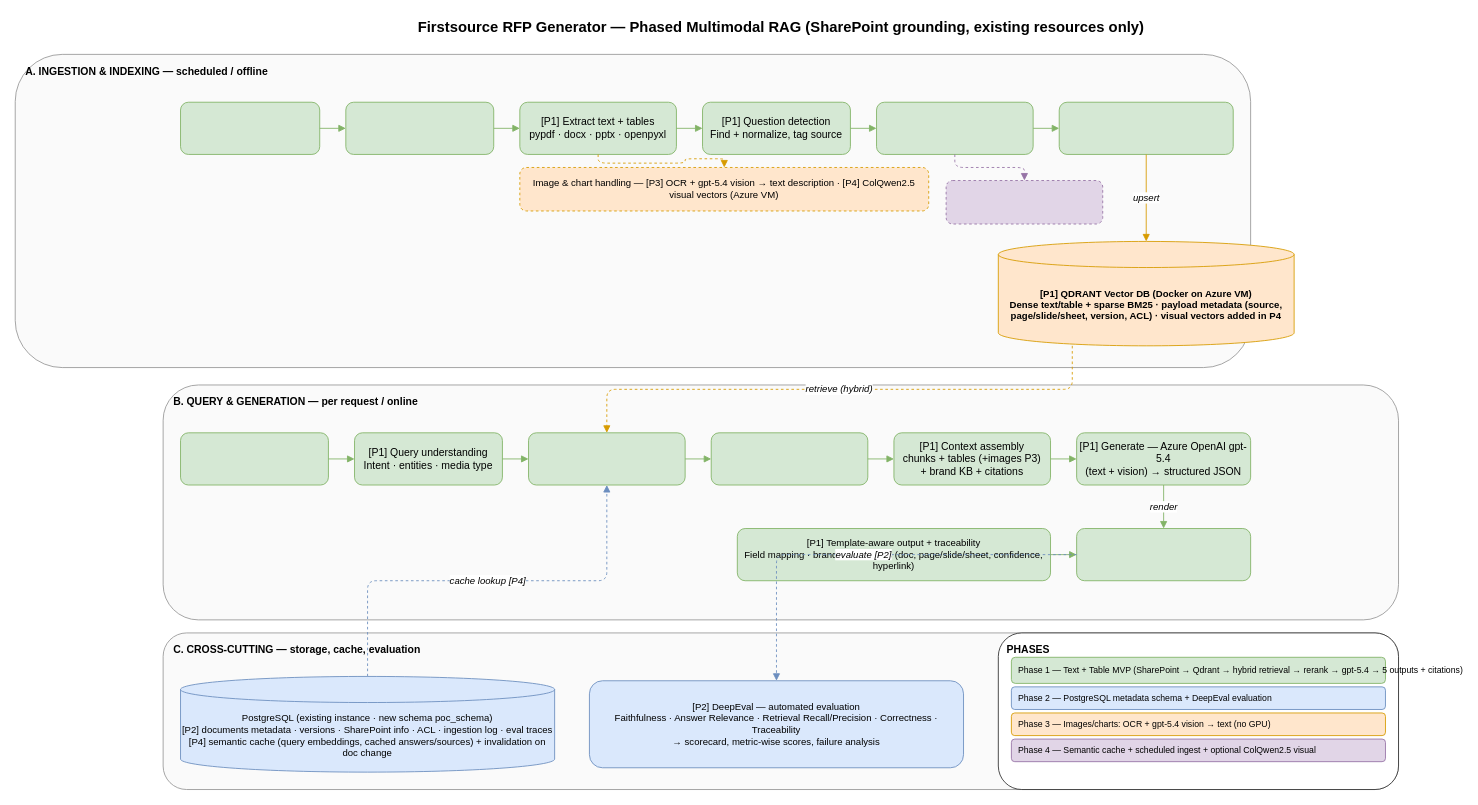
The diagram is 1478 pixels wide and 805 high, and some of its shapes have lost their labels. Here are the shapes that lost their labels. From the top down, the box of each, then its label:
(180, 101, 320, 154): [P1] SharePoint / M365 Libraries · versions · ACL
(345, 101, 494, 154): [P1] Microsoft Graph API Pull new/changed (app-only)
(876, 101, 1033, 154): [P1] Chunking Structure-aware + recursive ~512 tok · tables intact
(1058, 101, 1233, 154): [P1] Build vectors Dense: text-embedding-3-small Sparse: BM25 keyword
(945, 180, 1103, 224): [P4] Contextual enrichment (optional) — gpt-5.4 adds 1-line context per chunk
(180, 432, 328, 485): [P1] User request Upload RFI / paste Qs (web app)
(528, 432, 685, 485): [P1] Hybrid retrieval dense + sparse (RRF) → top ~100
(710, 432, 868, 485): [P1] Re-ranking bge-reranker-v2-m3 → top ~15
(1076, 528, 1251, 581): [P1] Deliverables Dashboard · Q&A · Word · PPT · Excel
